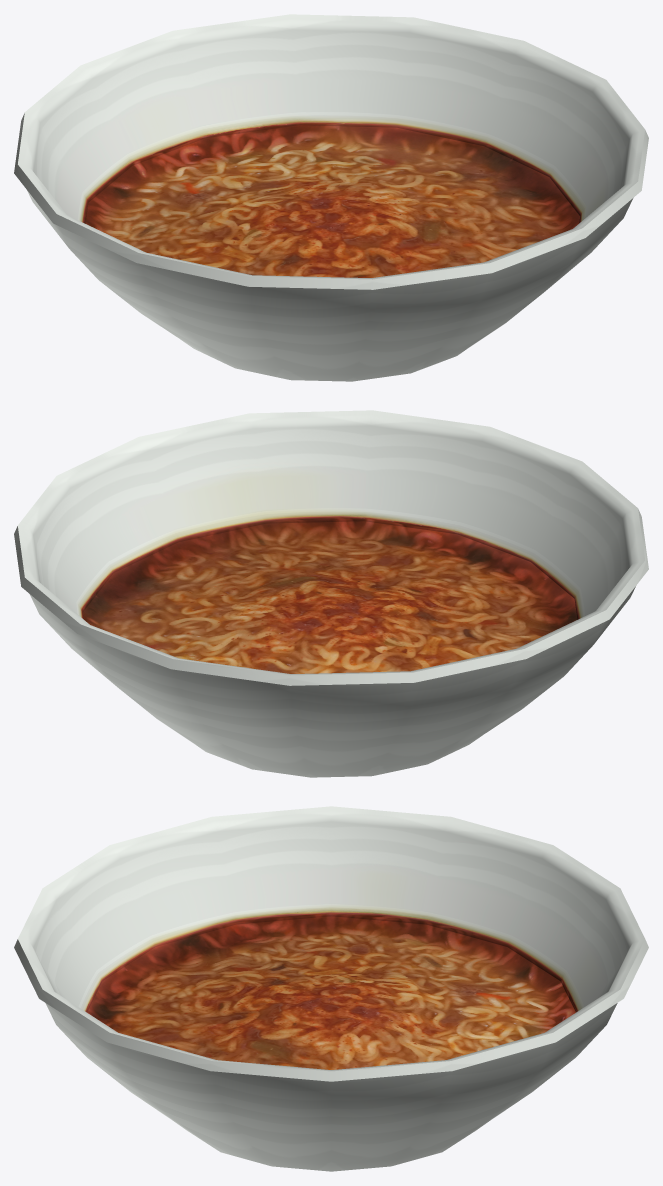
File: Ramen_fbx.fbx
3 views of the same model, one above another, from view 1: azimuth 30°, elevation 25°; view 2: azimuth 150°, elevation 25°; view 3: azimuth 270°, elevation 25° (orthographic).
Visible parts, largest first — view 1: ramen; view 2: ramen; view 3: ramen.
Part boxes in pixels (box(x1,y1,x2,y2)): ramen: box(14, 14, 648, 381); ramen: box(14, 410, 648, 777); ramen: box(14, 806, 648, 1171).
Bounding box in the file's own units: 31.63 × 9.33 × 31.63.
1 material, 1 textured.
